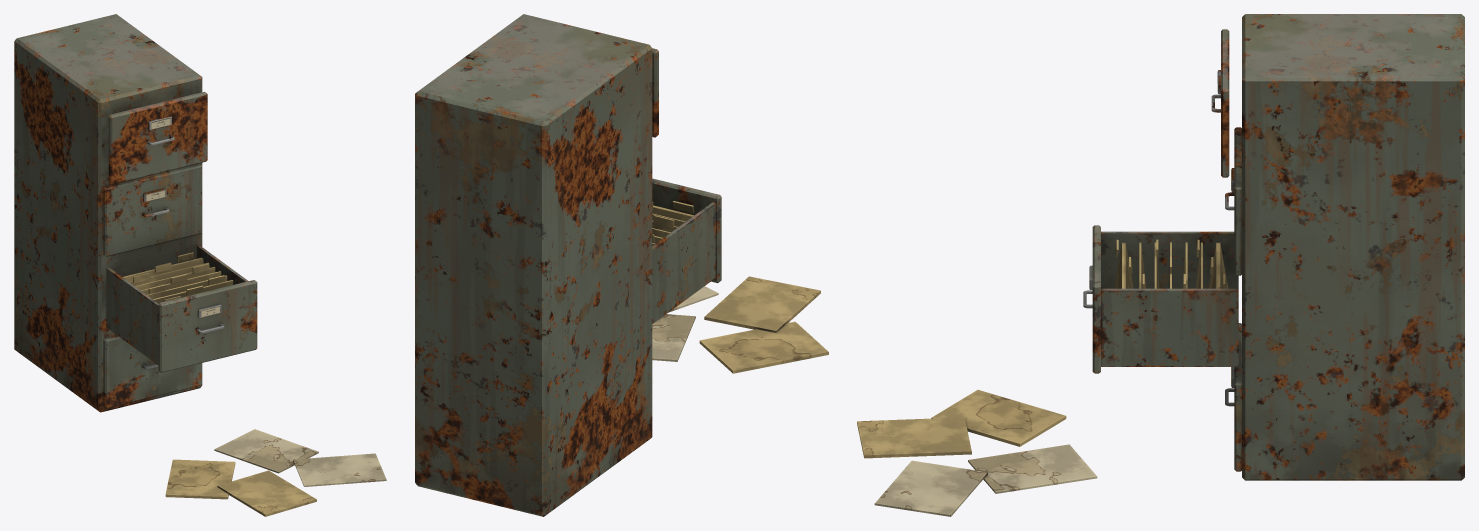
File: FilingCabinet.fbx
The picture shows the model from 3 angles, left to right: view 1: azimuth 30°, elevation 25°; view 2: azimuth 150°, elevation 25°; view 3: azimuth 270°, elevation 25°; orthographic projection. The views are drawn at different scales.
Parts seen in each view (by area): view 1: FilingCabinet; view 2: FilingCabinet; view 3: FilingCabinet.
Boxes of the visible parts, <box> form: FilingCabinet: <box>14,14,386,516</box>; FilingCabinet: <box>415,14,828,516</box>; FilingCabinet: <box>857,14,1464,516</box>.
Size of the model in its own units: 2.64 by 3.96 by 5.4.
1 material, 1 textured.
